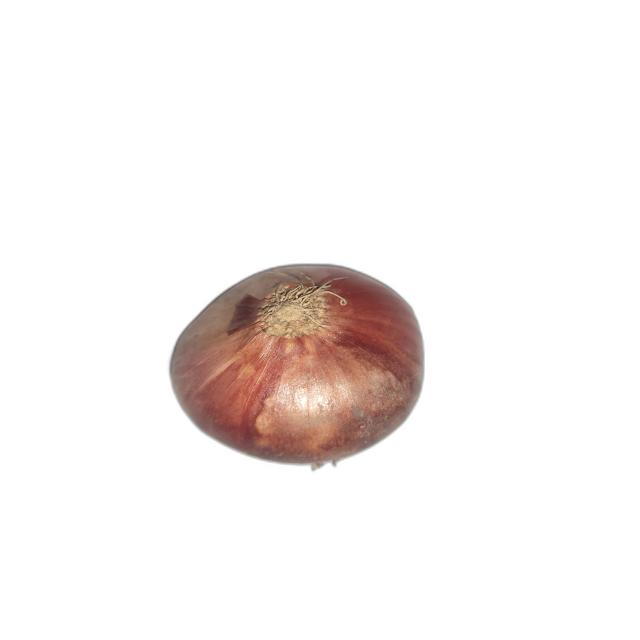onion: (168, 263, 424, 472)
